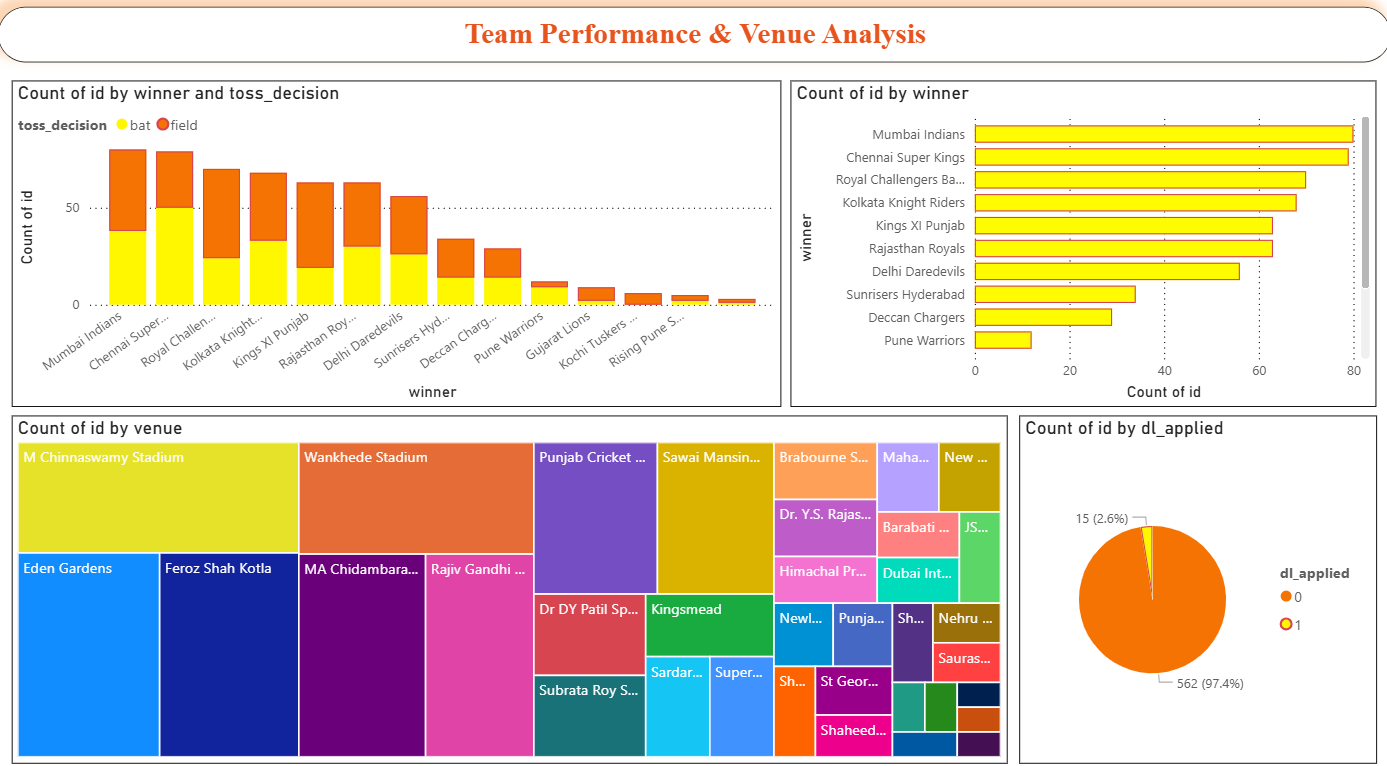

The page's visual inventory and layout, read from the dashboard file:
{"tool":"powerbi","page":{"name":"Page 2","canvas":[1280,720],"ordinal":1},"visuals":[{"type":"columnChart","fields":{"Category":["ipl_dataset (1).winner"],"Y":["CountNonNull(ipl_dataset (1).id)"],"Series":["ipl_dataset (1).toss_decision"]},"box":[12.5,80,707.5,300],"z":0},{"type":"clusteredBarChart","fields":{"Category":["ipl_dataset (1).winner"],"Y":["CountNonNull(ipl_dataset (1).id)"]},"box":[728.8,80,538.8,300],"z":1000},{"type":"treemap","fields":{"Group":["ipl_dataset (1).venue"],"Values":["CountNonNull(ipl_dataset (1).id)"]},"box":[12.5,388.8,915,320],"z":2000},{"type":"pieChart","fields":{"Category":["ipl_dataset (1).dl_applied"],"Y":["CountNonNull(ipl_dataset (1).id)"]},"box":[938.8,388.8,328.8,320],"z":3000},{"type":"textbox","title":"Team Performance & Venue Analysis","box":[0,12.5,1280,51.2],"z":4000}]}

Visuals, with their boxes in screenshot pixels (x1, y1, x2, y2), scaled from the page's 1280x720 canvas onto the 1387x766 screenshot:
columnChart - ipl_dataset (1).winner x CountNonNull(ipl_dataset (1).id): x1=14 y1=85 x2=780 y2=404
clusteredBarChart - ipl_dataset (1).winner x CountNonNull(ipl_dataset (1).id): x1=790 y1=85 x2=1374 y2=404
treemap - ipl_dataset (1).venue x CountNonNull(ipl_dataset (1).id): x1=14 y1=414 x2=1005 y2=754
pieChart - ipl_dataset (1).dl_applied x CountNonNull(ipl_dataset (1).id): x1=1017 y1=414 x2=1374 y2=754
"Team Performance & Venue Analysis" textbox: x1=0 y1=13 x2=1386 y2=68
